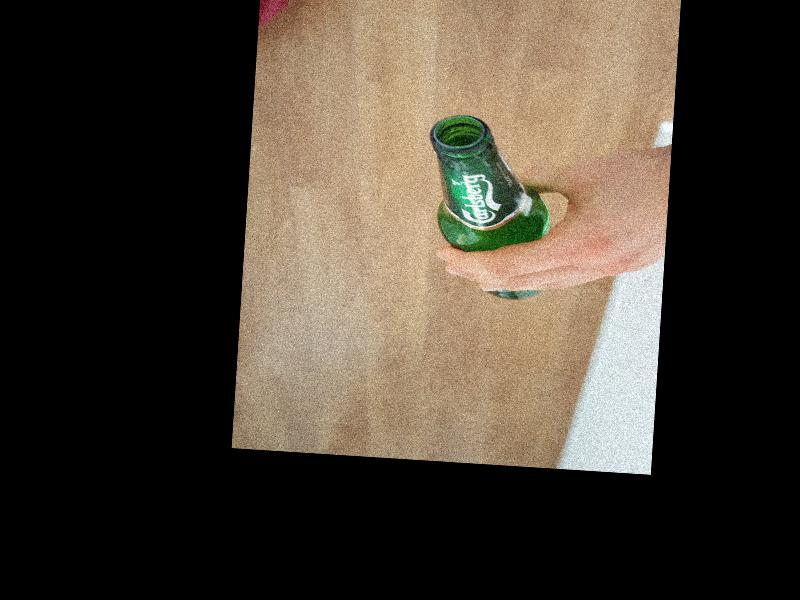Beer: (418, 113, 555, 301)
